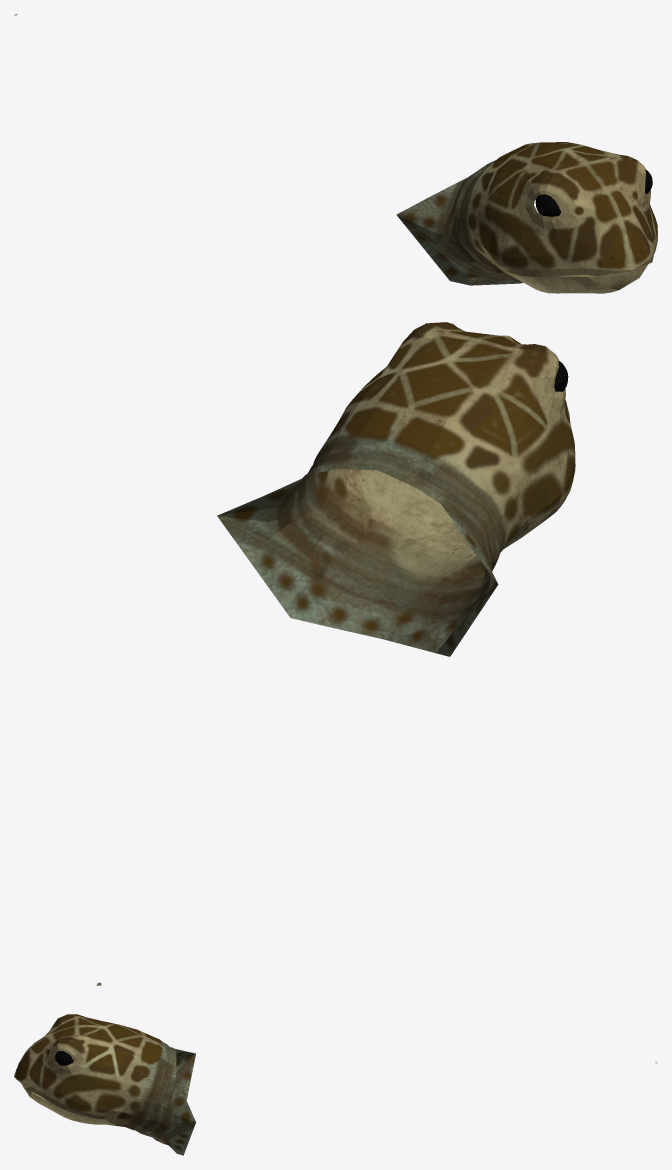
File: tortuga1.obj
3 renders of one model, top to bottom at view 1: azimuth 30°, elevation 25°; view 2: azimuth 150°, elevation 25°; view 3: azimuth 270°, elevation 25°, orthographic. The views are drawn at different scales.
Visible parts, largest first — view 1: Object_4.1462_Turtle_Color, Object_4.1462_lambert2SG; view 2: Object_4.1462_Turtle_Color; view 3: Object_4.1462_Turtle_Color.
Boxes of the visible parts, x1,y1,x2,y2 form: Object_4.1462_Turtle_Color: (396, 142, 657, 293); Object_4.1462_lambert2SG: (535, 169, 652, 216); Object_4.1462_Turtle_Color: (217, 322, 575, 656); Object_4.1462_Turtle_Color: (14, 1014, 195, 1155).
Bounding box in the file's own units: 57.25 × 37.05 × 185.
Materials: 2 (1 with a texture image).
